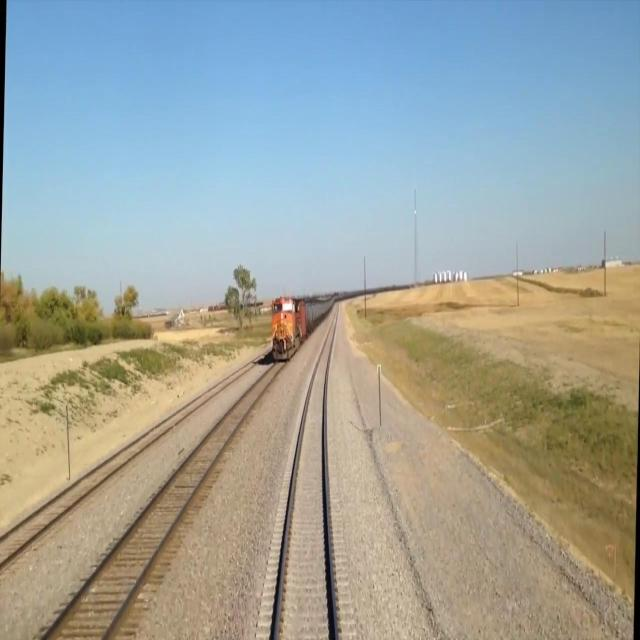rail-track: (46, 363, 280, 639), (0, 366, 248, 559), (277, 316, 335, 639)
